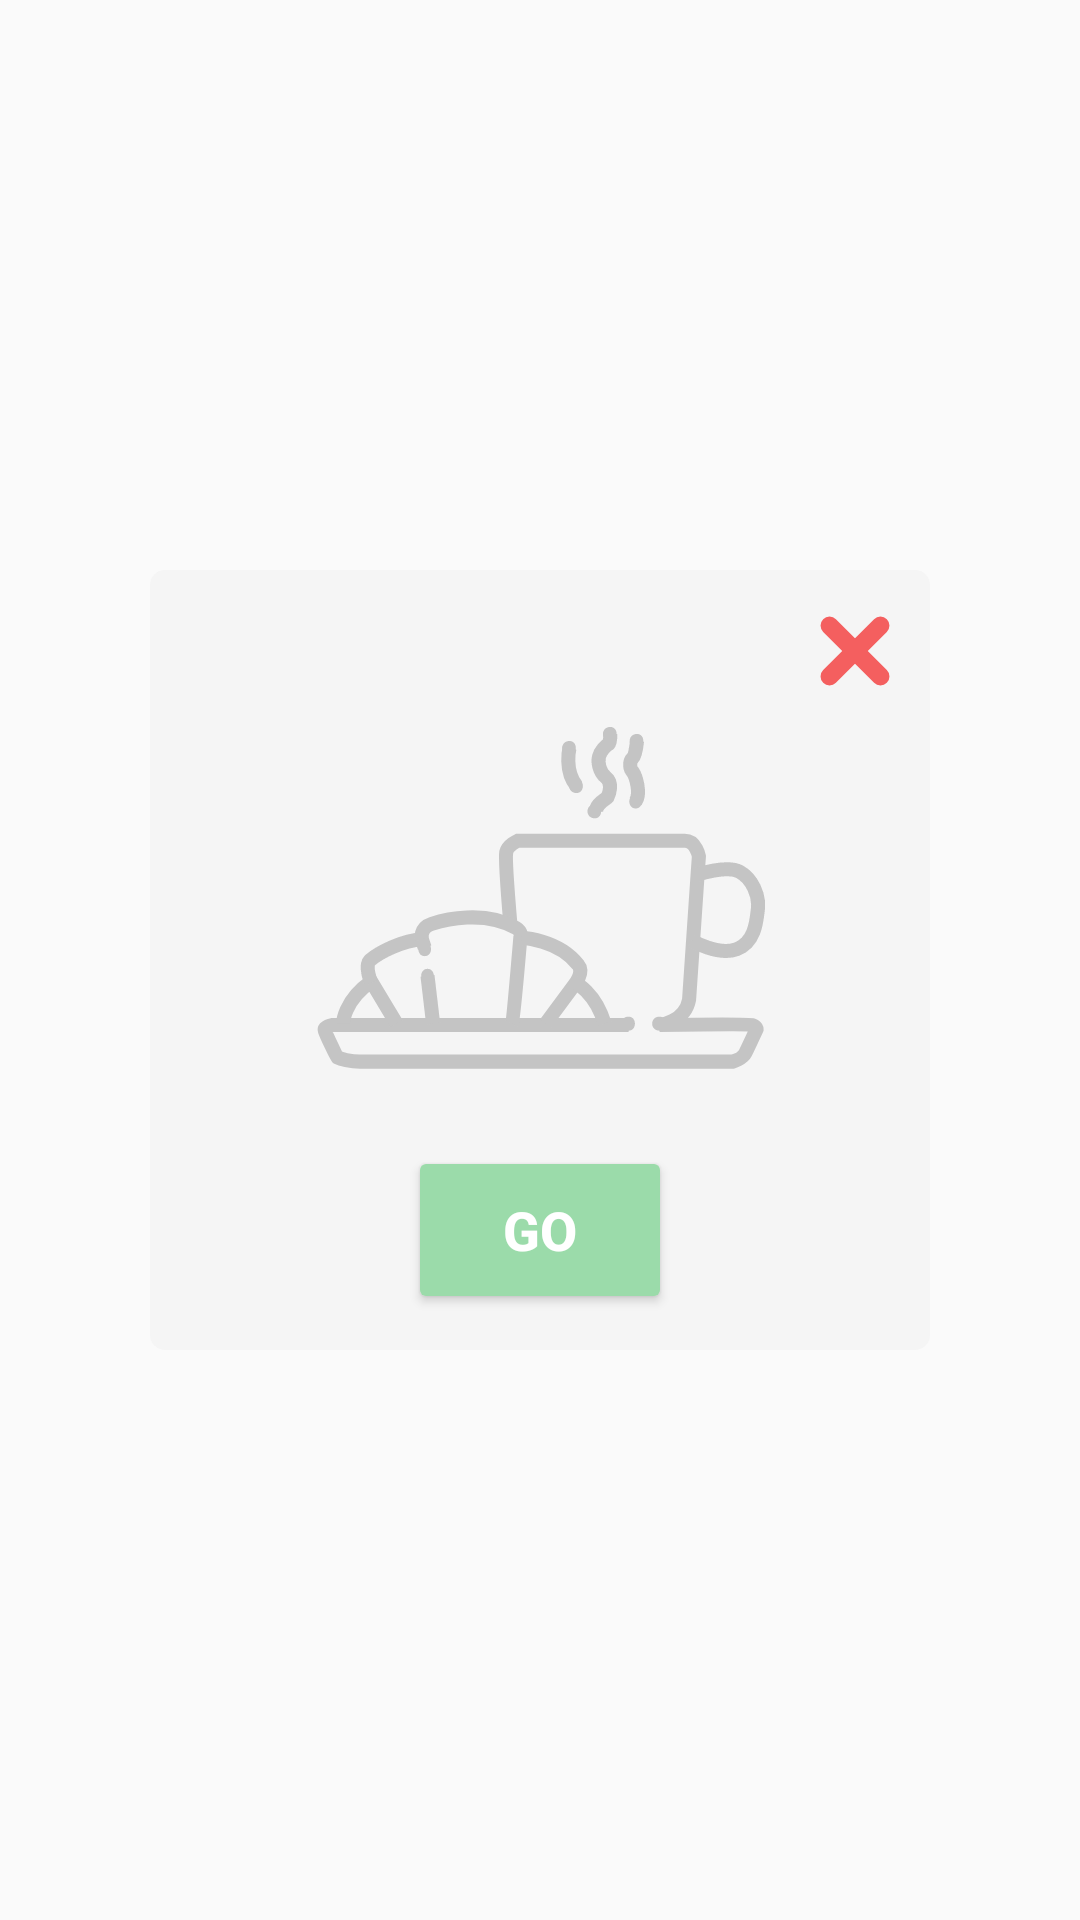

Named icons in this screenshot (1080*1920) and their bounding boxes, (x1, y1, x2, y2):
delete item cart: (820, 616, 890, 686)
